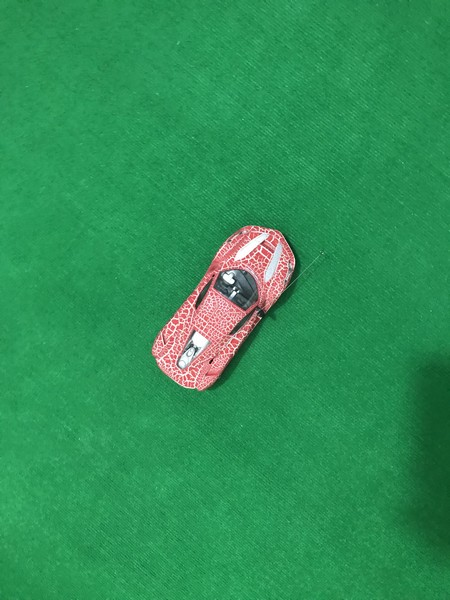RC: (150, 225, 298, 394)
